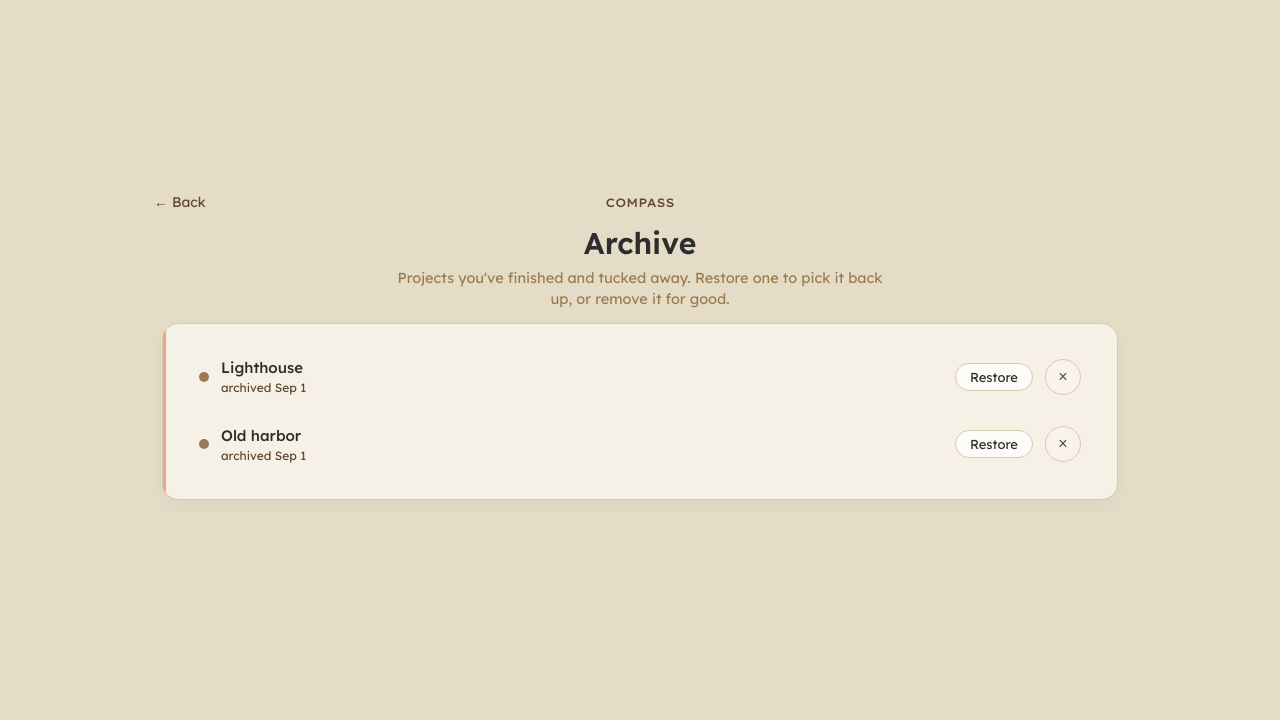
Test: overlapping deletes on the archive screen › a second Delete on a row whose deletion is still on its way deletes it only once
The image size is (1280, 720).
Later steps or results of the test are not shown.
Click the button "×" in the row of "Lighthouse" at (1063, 377), box [1045,359,1081,395]
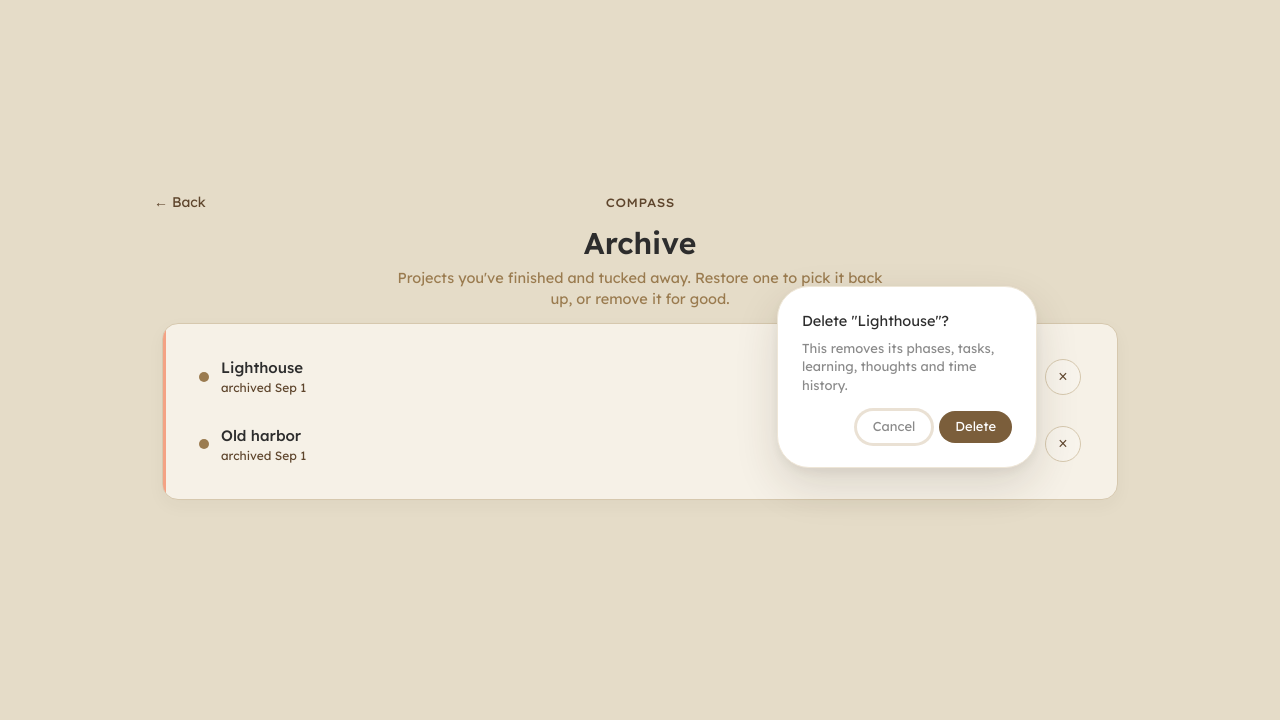
Result: the button "Delete" is shown
Click the button "Delete" at (976, 427), box [939,411,1012,443]
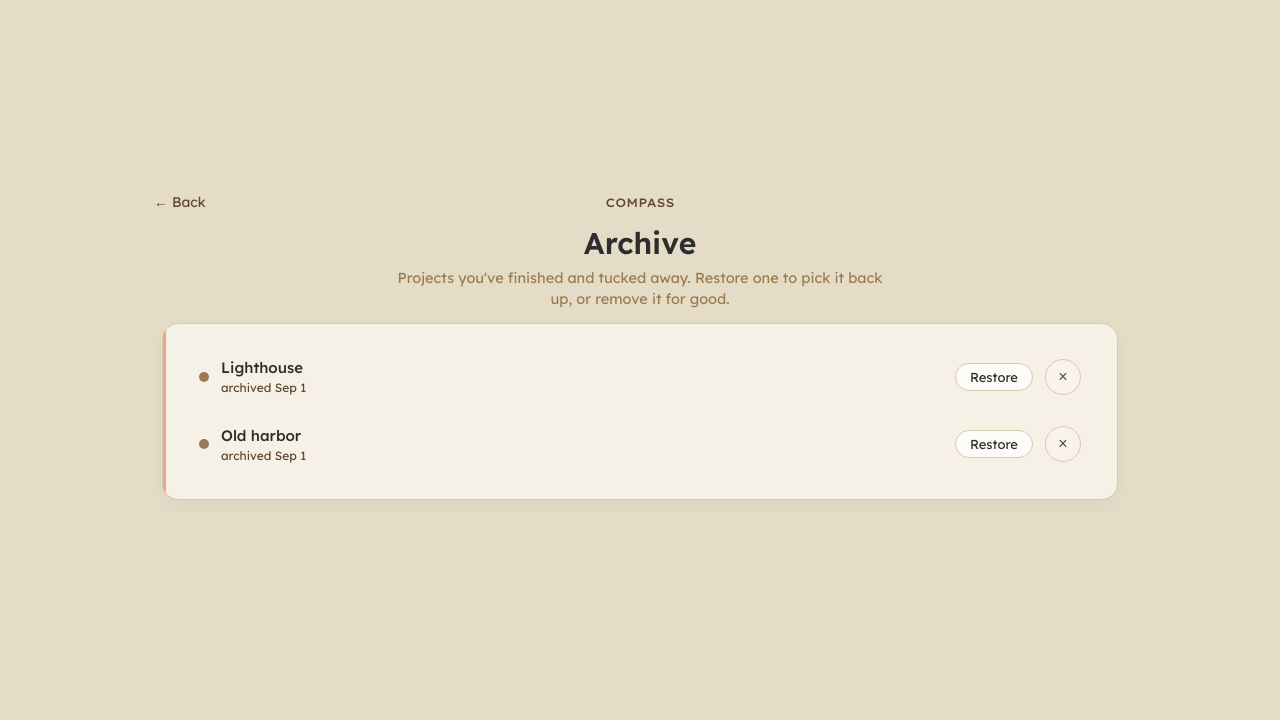
Click the button "×" in the row of "Lighthouse" at (1063, 377), box [1045,359,1081,395]
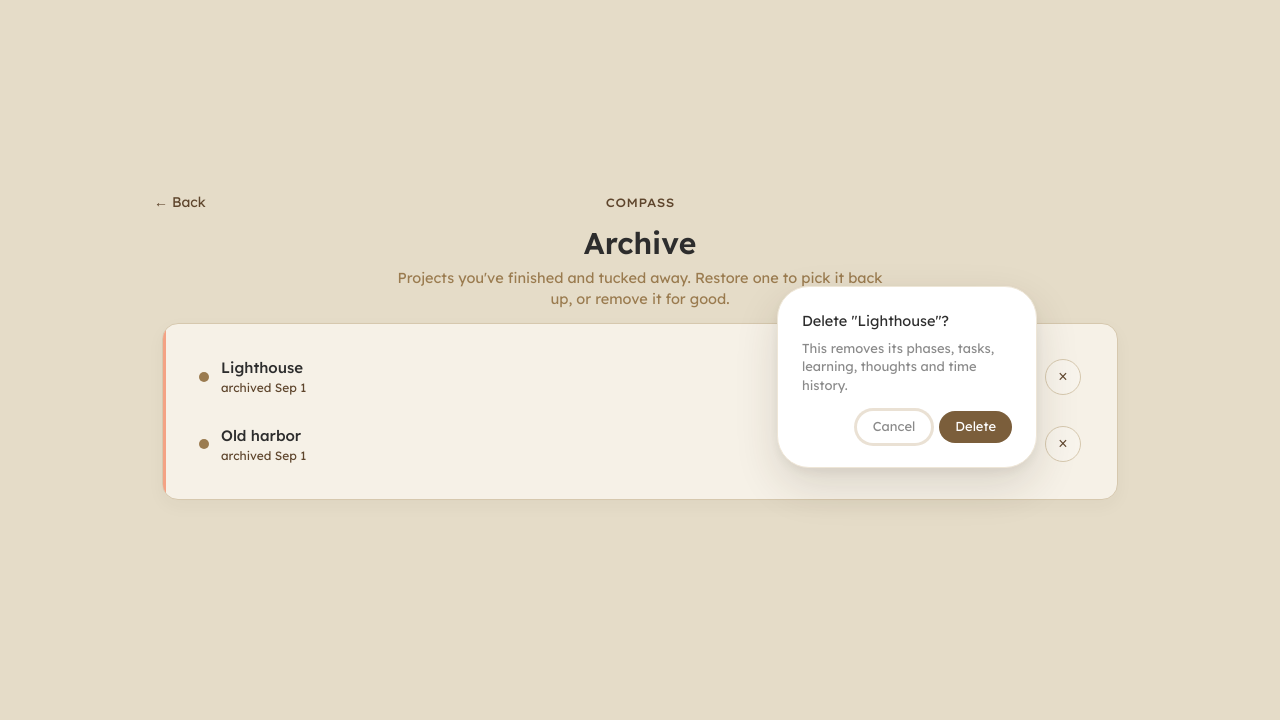
Result: the button "Delete" is shown at [939,411,1012,443]
